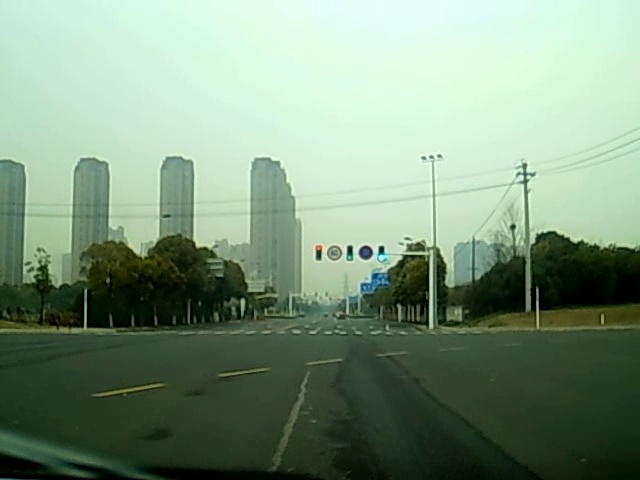Traffic_Light_go: (346, 245, 353, 263), (380, 245, 386, 264)
Traffic_Light_stop: (314, 244, 323, 263)
